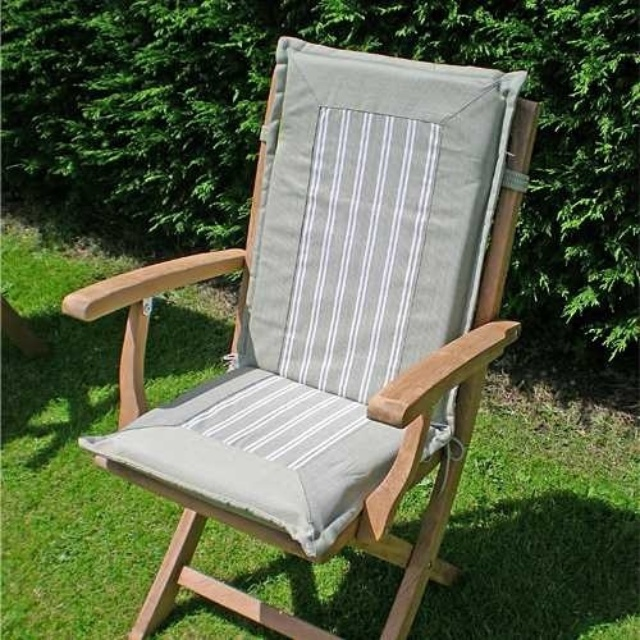obstacle: (63, 37, 536, 639)
